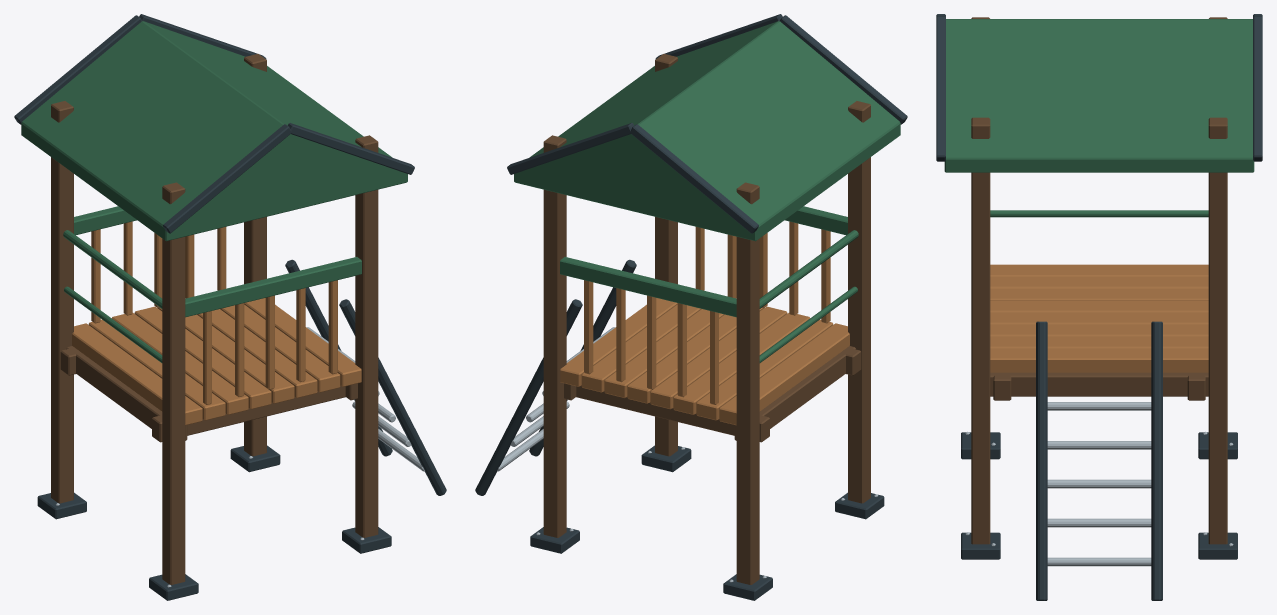
Rendered from b09_roofed_play_tower.glb.
3 renders of one model, left to right at view 1: azimuth 30°, elevation 25°; view 2: azimuth 150°, elevation 25°; view 3: azimuth 270°, elevation 25°, orthographic. The views are drawn at different scales.
Parts seen in each view (by area): view 1: b09_roofed_play_tower; view 2: b09_roofed_play_tower; view 3: b09_roofed_play_tower.
Boxes of the visible parts, x1=… form: b09_roofed_play_tower: x1=14, y1=14, x2=446, y2=600; b09_roofed_play_tower: x1=475, y1=14, x2=907, y2=600; b09_roofed_play_tower: x1=936, y1=14, x2=1262, y2=600.
Size of the model in its own units: 2.25 by 2.98 by 1.82.
